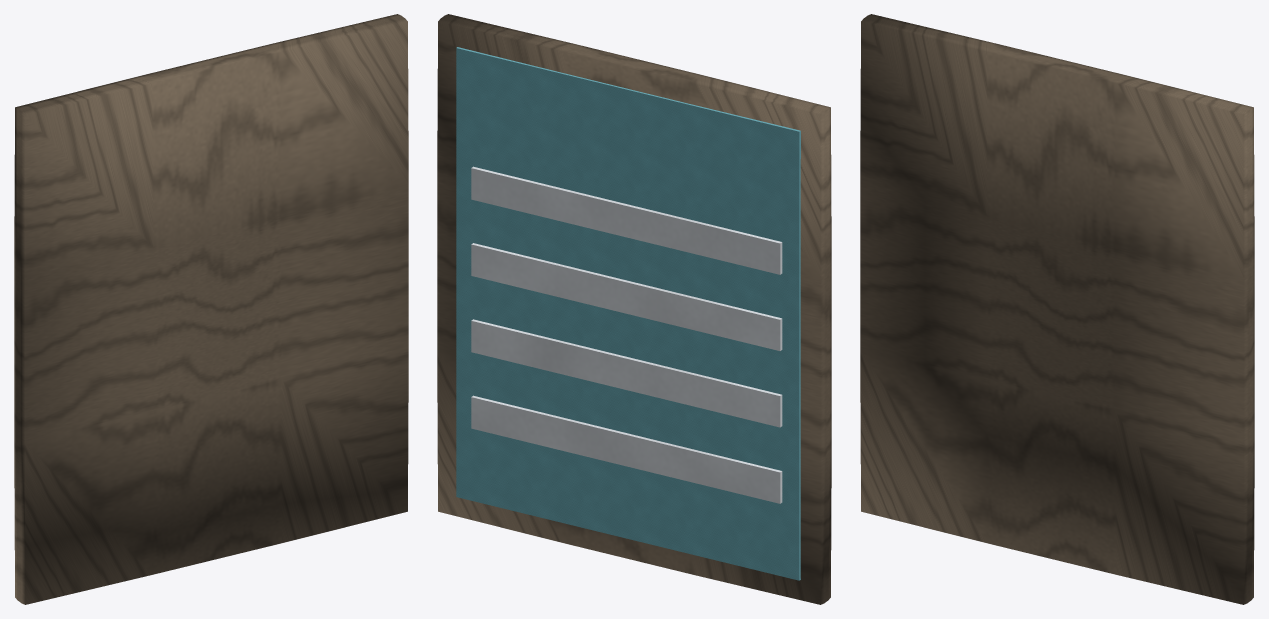
The model's file is painting_waves.glb.
The picture shows the model from 3 angles, left to right: view 1: azimuth 30°, elevation 25°; view 2: azimuth 150°, elevation 25°; view 3: azimuth 330°, elevation 25°; orthographic projection.
Visible parts, largest first — view 1: painting_waves_body; view 2: painting_waves_body; view 3: painting_waves_body.
Boxes of the visible parts, <box> form: painting_waves_body: <box>14,14,408,604</box>; painting_waves_body: <box>437,14,831,604</box>; painting_waves_body: <box>860,14,1254,604</box>.
Bounding box in the file's own units: 0.9 × 1.1 × 0.06.
3 materials, 3 textured.
